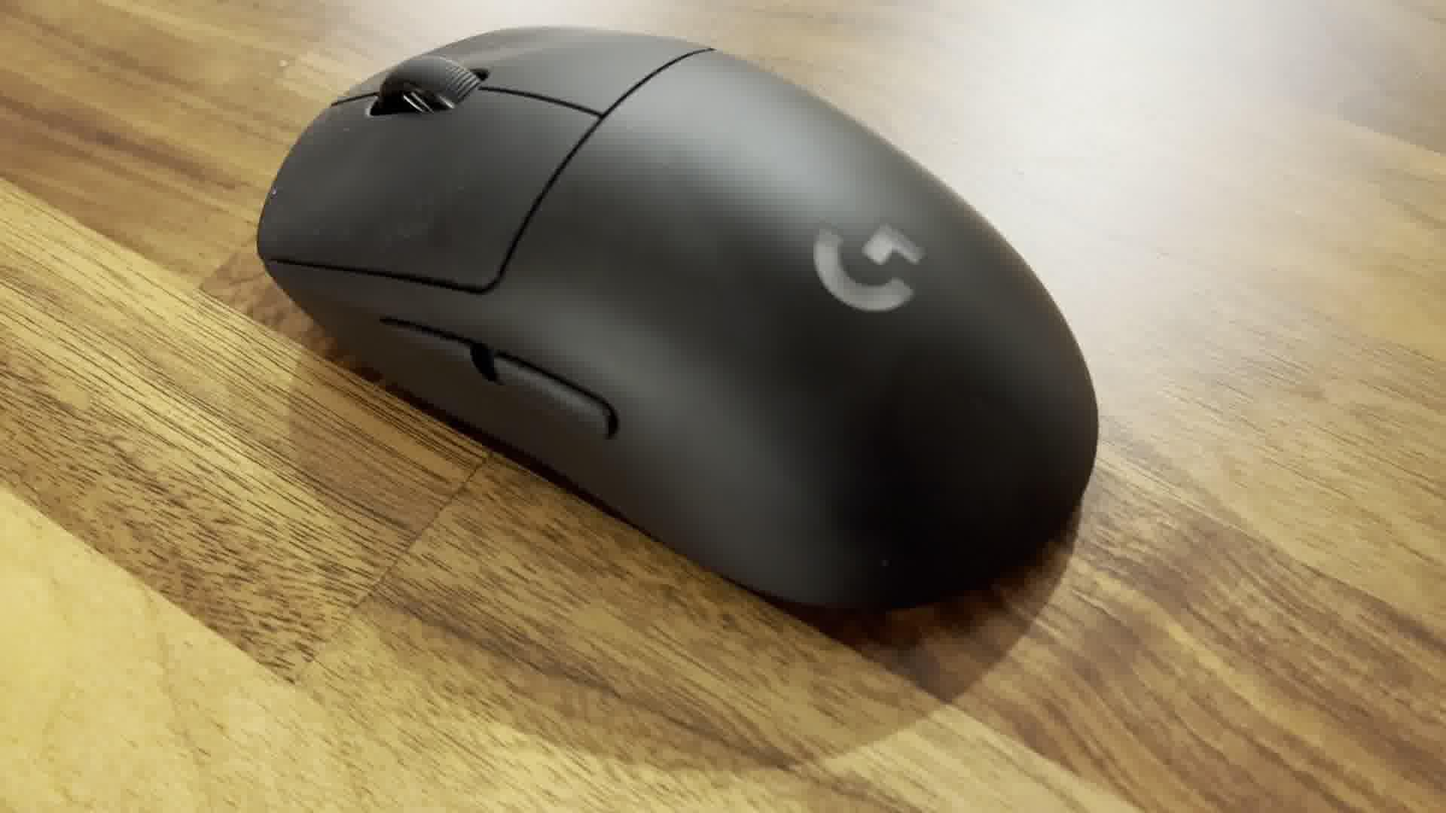mouse: (254, 21, 1103, 616)
